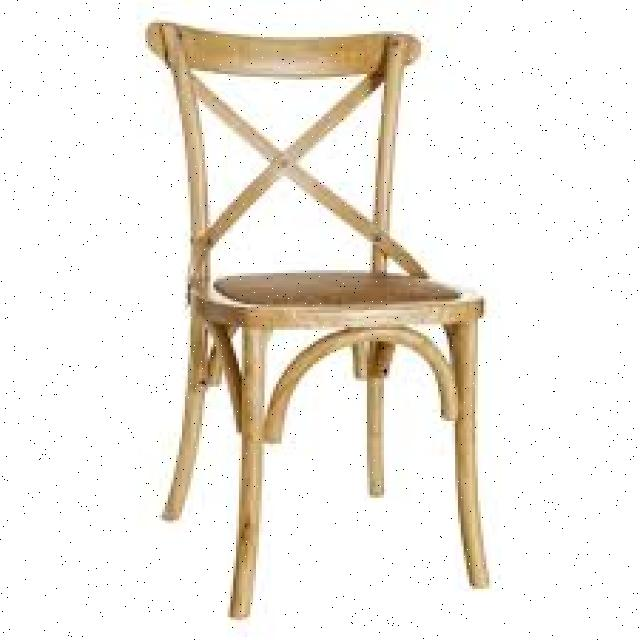bottle: (147, 16, 497, 622)
